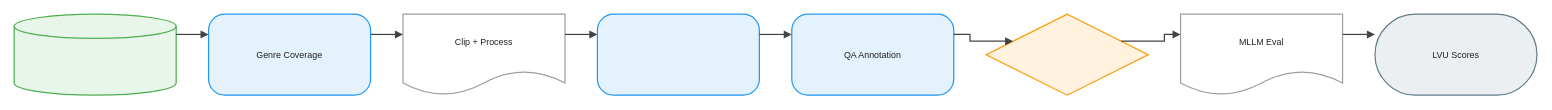
This 1552x110 diagram has some shape labels left out. Each missing label, with the centre of its shape:
Dev/Test Sets: pixel 1066 54
Long Videos: pixel 94 54
Nine Tasks: pixel 678 54
